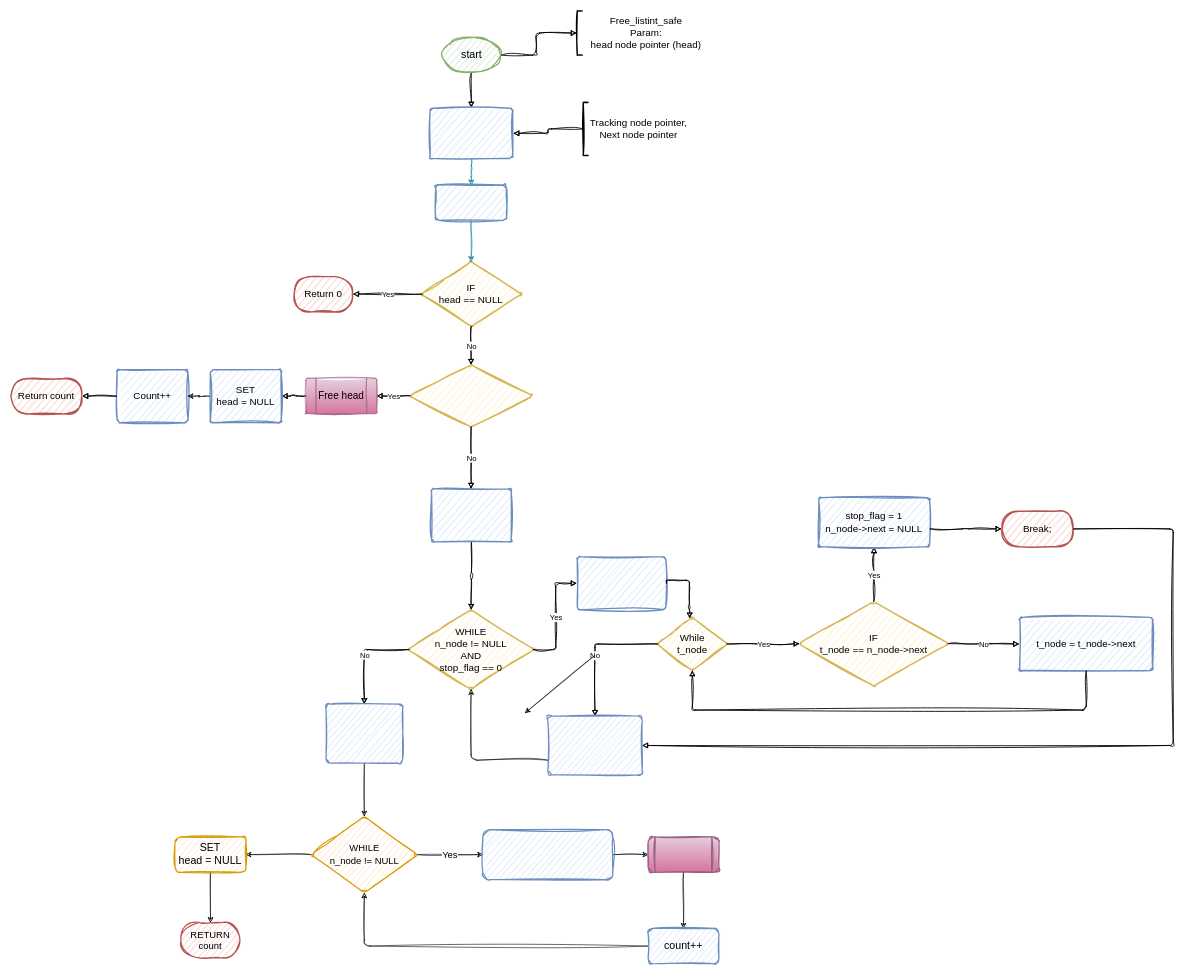
This 1188x975 diagram has some shape labels left out. The box of each missing label's shape, as (x1, y1, x2, y2) in pixels:
Free t_node: (647, 836, 719, 873)
head == head->next: (408, 364, 533, 427)
INT stop_flag = 0: (435, 184, 507, 221)
n_node = head: (431, 488, 512, 542)
Node pointer : t_node, n_node.: (429, 107, 513, 159)
SET n_node = head t_node = NULL: (325, 703, 403, 763)
SET n_node = node->next: (547, 715, 643, 775)
SET t_node = head: (576, 556, 666, 610)
SET t_node = n_node n_node = n__node->next: (482, 829, 613, 880)
